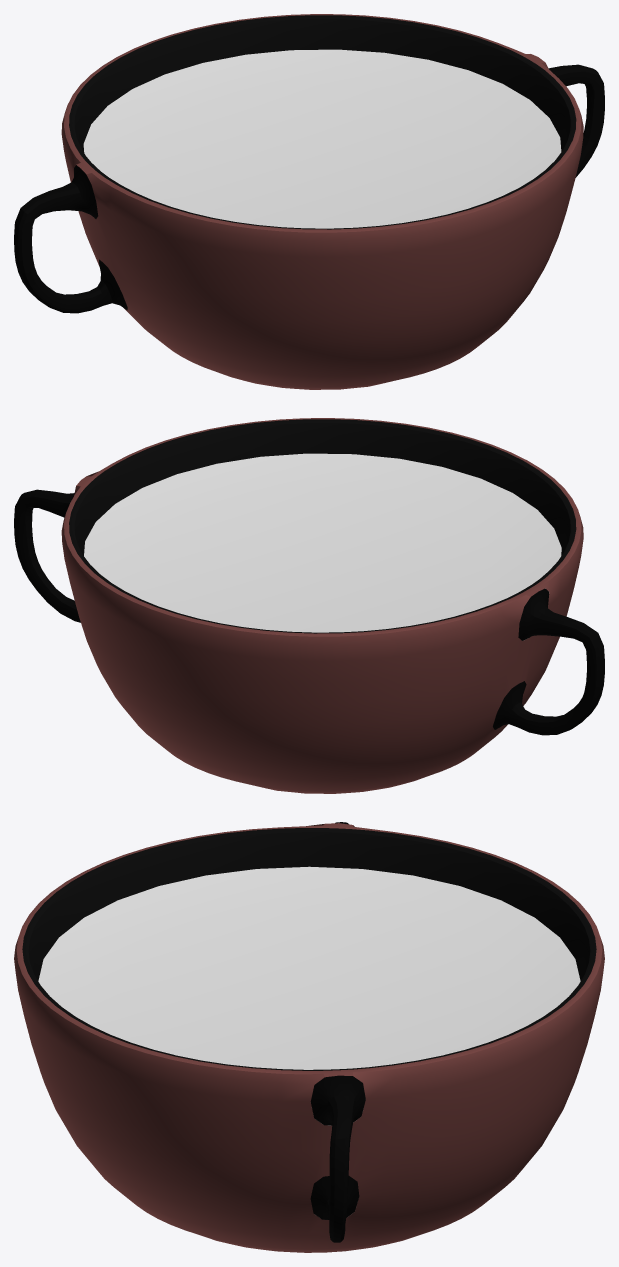
The model's file is Pot 1.fbx.
3 views of the same model, one above another, from view 1: azimuth 30°, elevation 25°; view 2: azimuth 150°, elevation 25°; view 3: azimuth 270°, elevation 25° (orthographic). The views are drawn at different scales.
Parts seen in each view (by area): view 1: pot, Cylinder; view 2: pot, Cylinder; view 3: pot, Cylinder.
Part boxes in pixels (x1,y1,x2,y2): pot: (14, 14, 604, 389); Cylinder: (83, 49, 561, 228); pot: (14, 418, 604, 793); Cylinder: (84, 453, 561, 640); pot: (14, 822, 604, 1252); Cylinder: (38, 866, 580, 1217).
Bounding box in the file's own units: 166 × 58.18 × 128.
